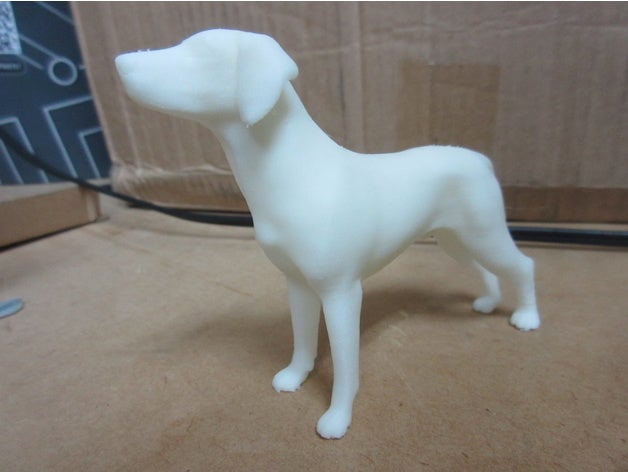Good: (99, 19, 573, 443)
